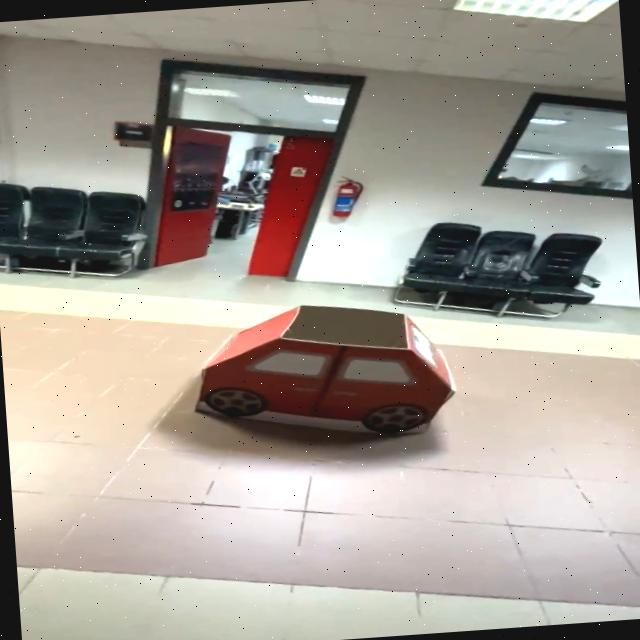red_car: (164, 277, 486, 462)
